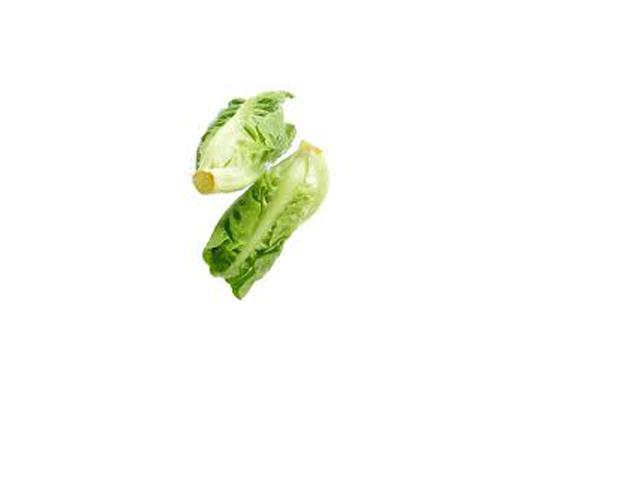lettuce: (174, 84, 298, 201)
